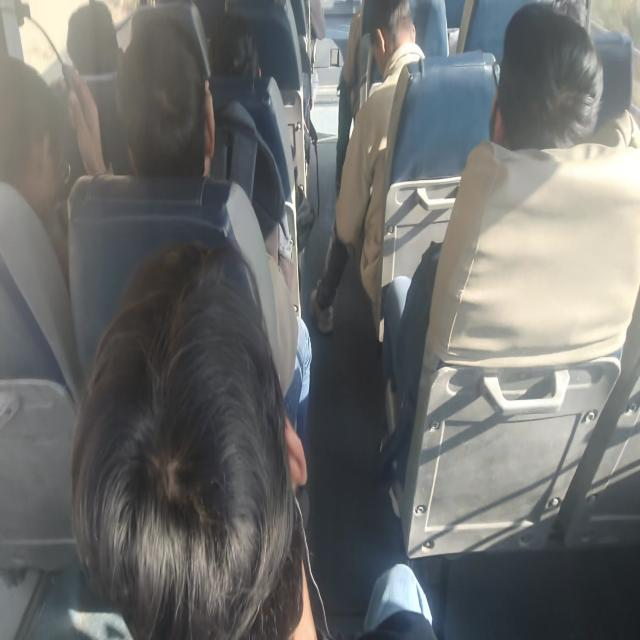person: (70, 240, 437, 638), (381, 1, 639, 558), (60, 4, 311, 487), (308, 0, 426, 341), (0, 54, 84, 403), (115, 6, 215, 177), (65, 1, 125, 173)
